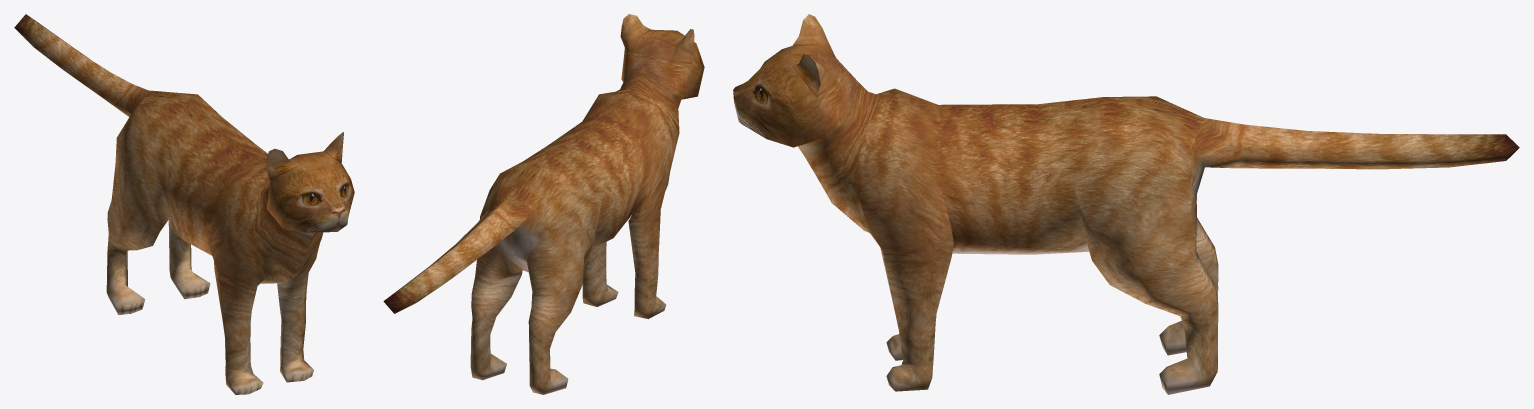
File: Cat_OrgTabby.obj
The picture shows the model from 3 angles, left to right: view 1: azimuth 30°, elevation 25°; view 2: azimuth 150°, elevation 25°; view 3: azimuth 270°, elevation 25°; orthographic projection. The views are drawn at different scales.
Visible parts, largest first — view 1: CatMesh; view 2: CatMesh; view 3: CatMesh.
Part boxes in pixels (x1=…): CatMesh: x1=14, y1=14, x2=354, y2=394; CatMesh: x1=383, y1=14, x2=704, y2=394; CatMesh: x1=733, y1=14, x2=1519, y2=394.
Bounding box in the file's own units: 16.18 × 40.84 × 87.03.
1 material, 1 textured.
